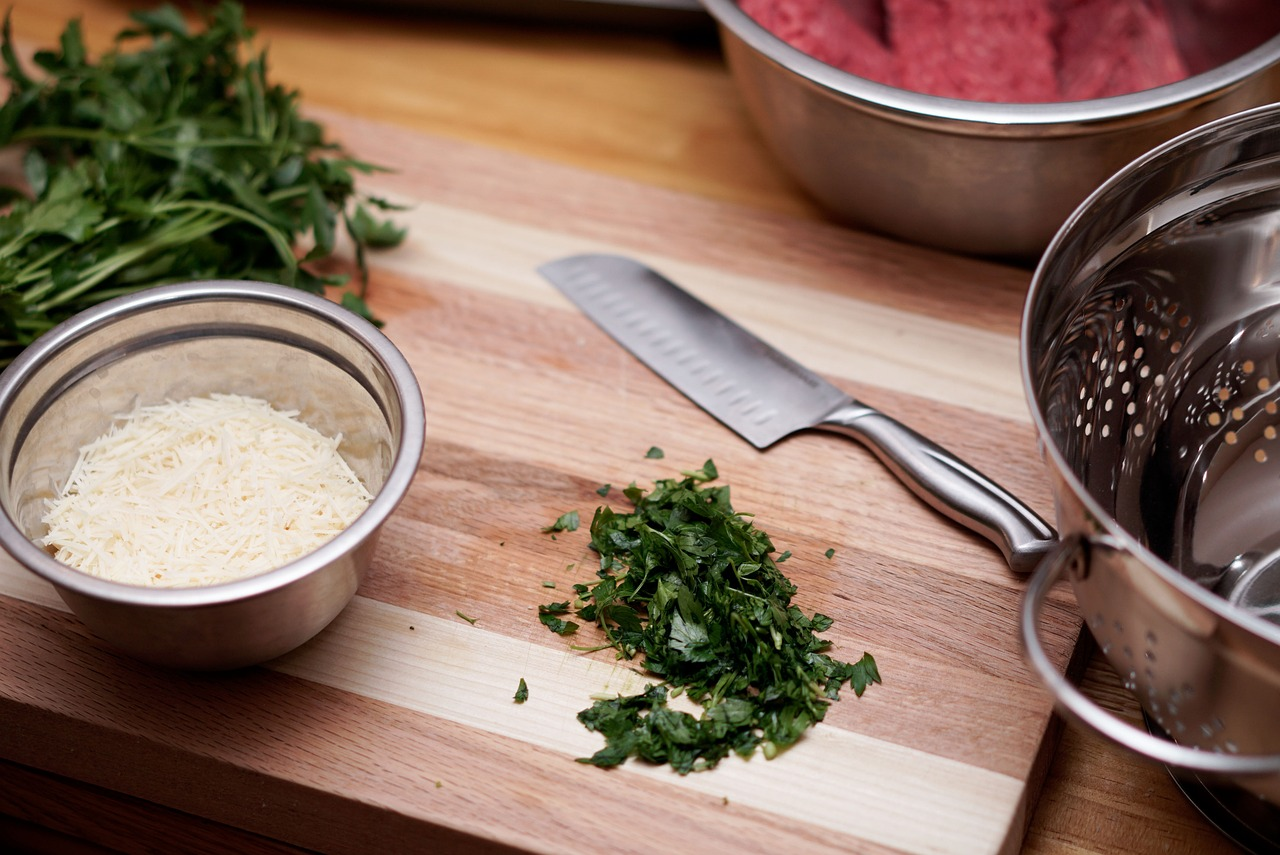knife: (529, 240, 1073, 592)
